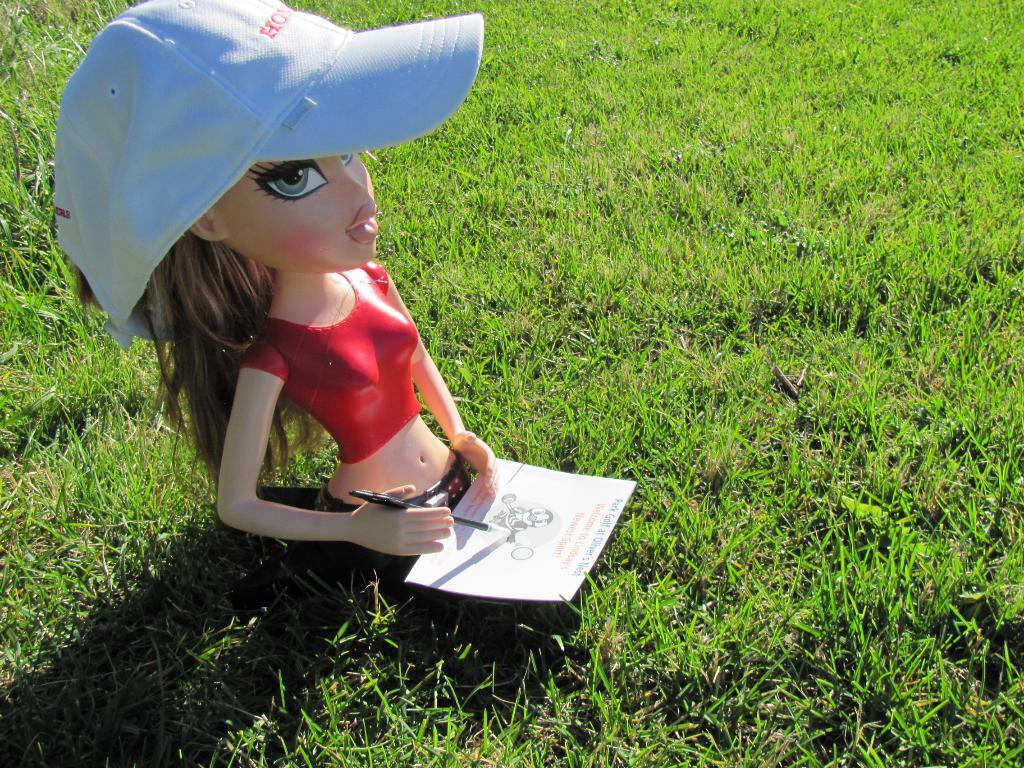Hat: (55, 0, 484, 345)
